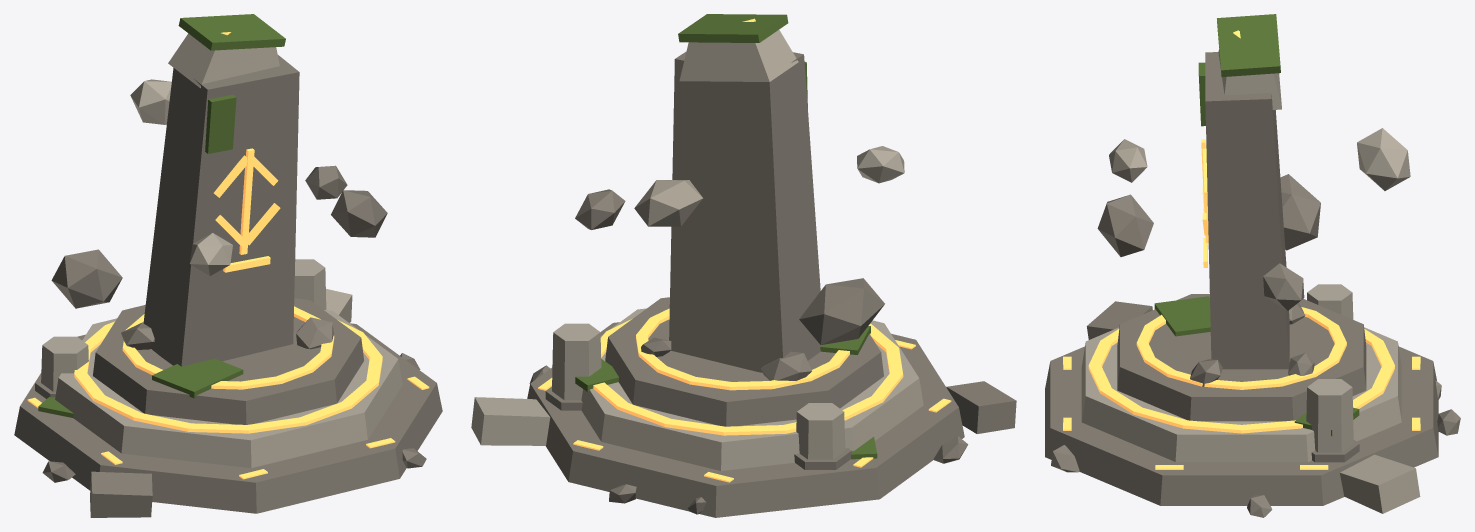
Rendered from Shrine_Earth.fbx.
3 renders of one model, left to right at view 1: azimuth 30°, elevation 25°; view 2: azimuth 150°, elevation 25°; view 3: azimuth 270°, elevation 25°, orthographic. The views are drawn at different scales.
Visible parts, largest first — view 1: Shrine_Earth; view 2: Shrine_Earth; view 3: Shrine_Earth.
Part boxes in pixels (x1,y1,x2,y2): Shrine_Earth: (14, 14, 442, 517); Shrine_Earth: (471, 14, 1016, 517); Shrine_Earth: (1045, 14, 1460, 517).
Size of the model in its own units: 3.19 by 3.06 by 2.93.
